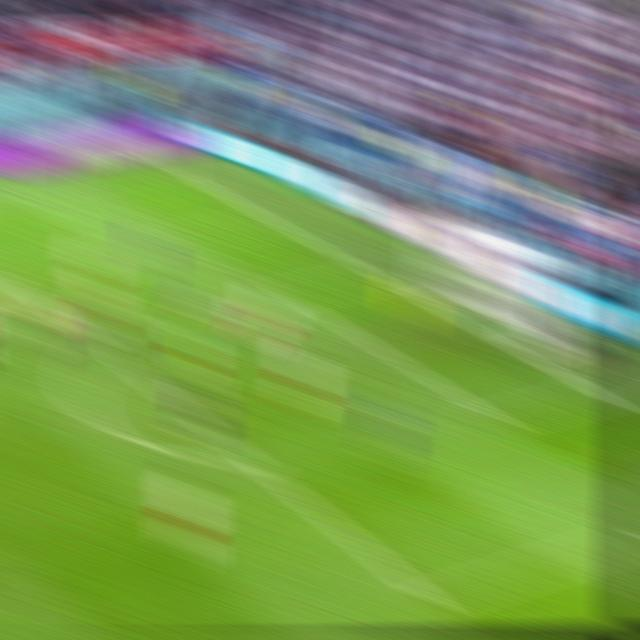bigarea_bottom_inner: (404, 577, 456, 622)
bigarea_top_inner: (0, 253, 22, 288)
bigarea_top_outter: (250, 204, 294, 236)
bottom_arc_area_intersection: (228, 439, 276, 482)
corner: (147, 153, 187, 177)
smallarea_bottom_inner: (473, 397, 523, 440)
smallarea_bottom_outter: (575, 373, 621, 410)
smallarea_top_inner: (265, 276, 311, 312)
smallarea_top_outter: (352, 259, 396, 291)
top_arc_area_intersection: (84, 331, 125, 364)
